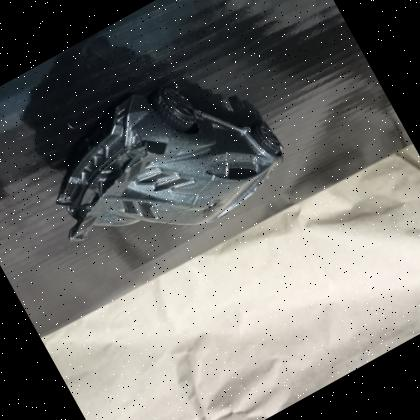Car: (15, 36, 306, 295)
